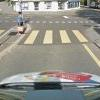crosswalks: (24, 30, 88, 45)
